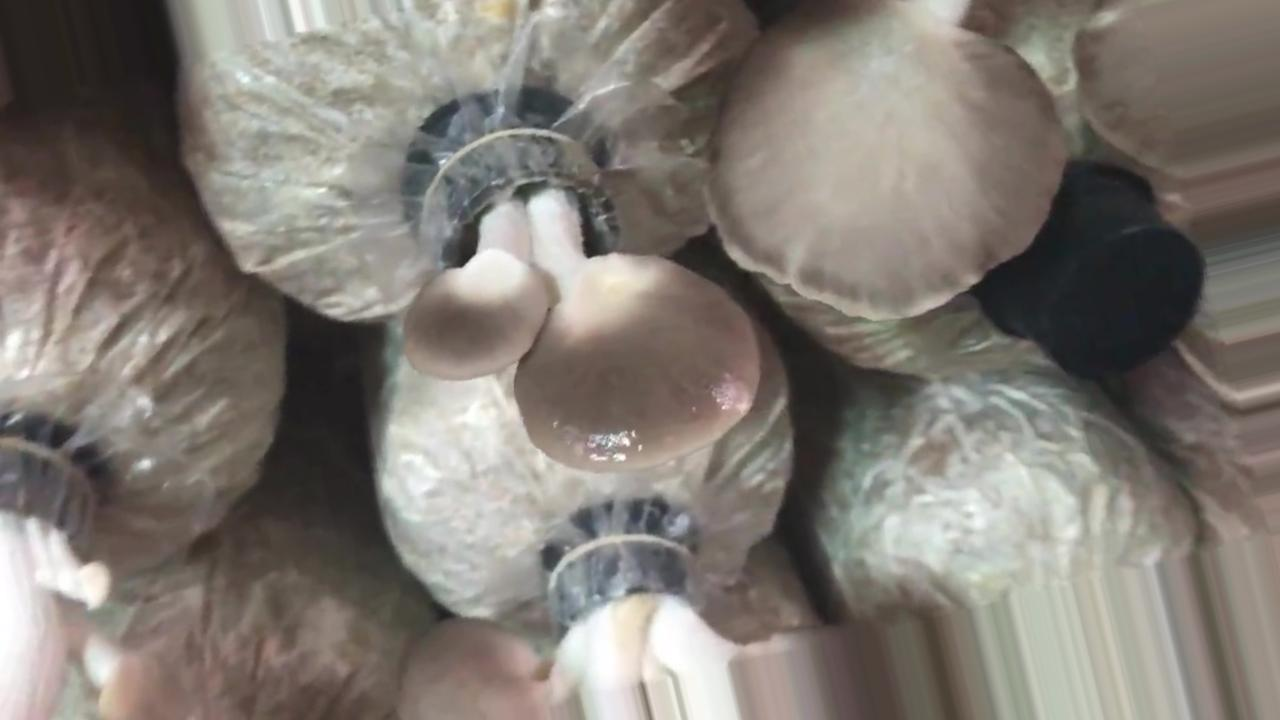nam: (700, 4, 1280, 324), (399, 114, 761, 482), (389, 530, 921, 716), (1, 412, 163, 720)
